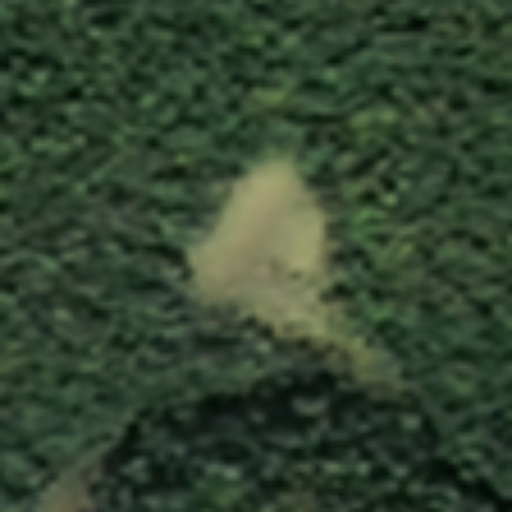landslide: (190, 160, 332, 333)
